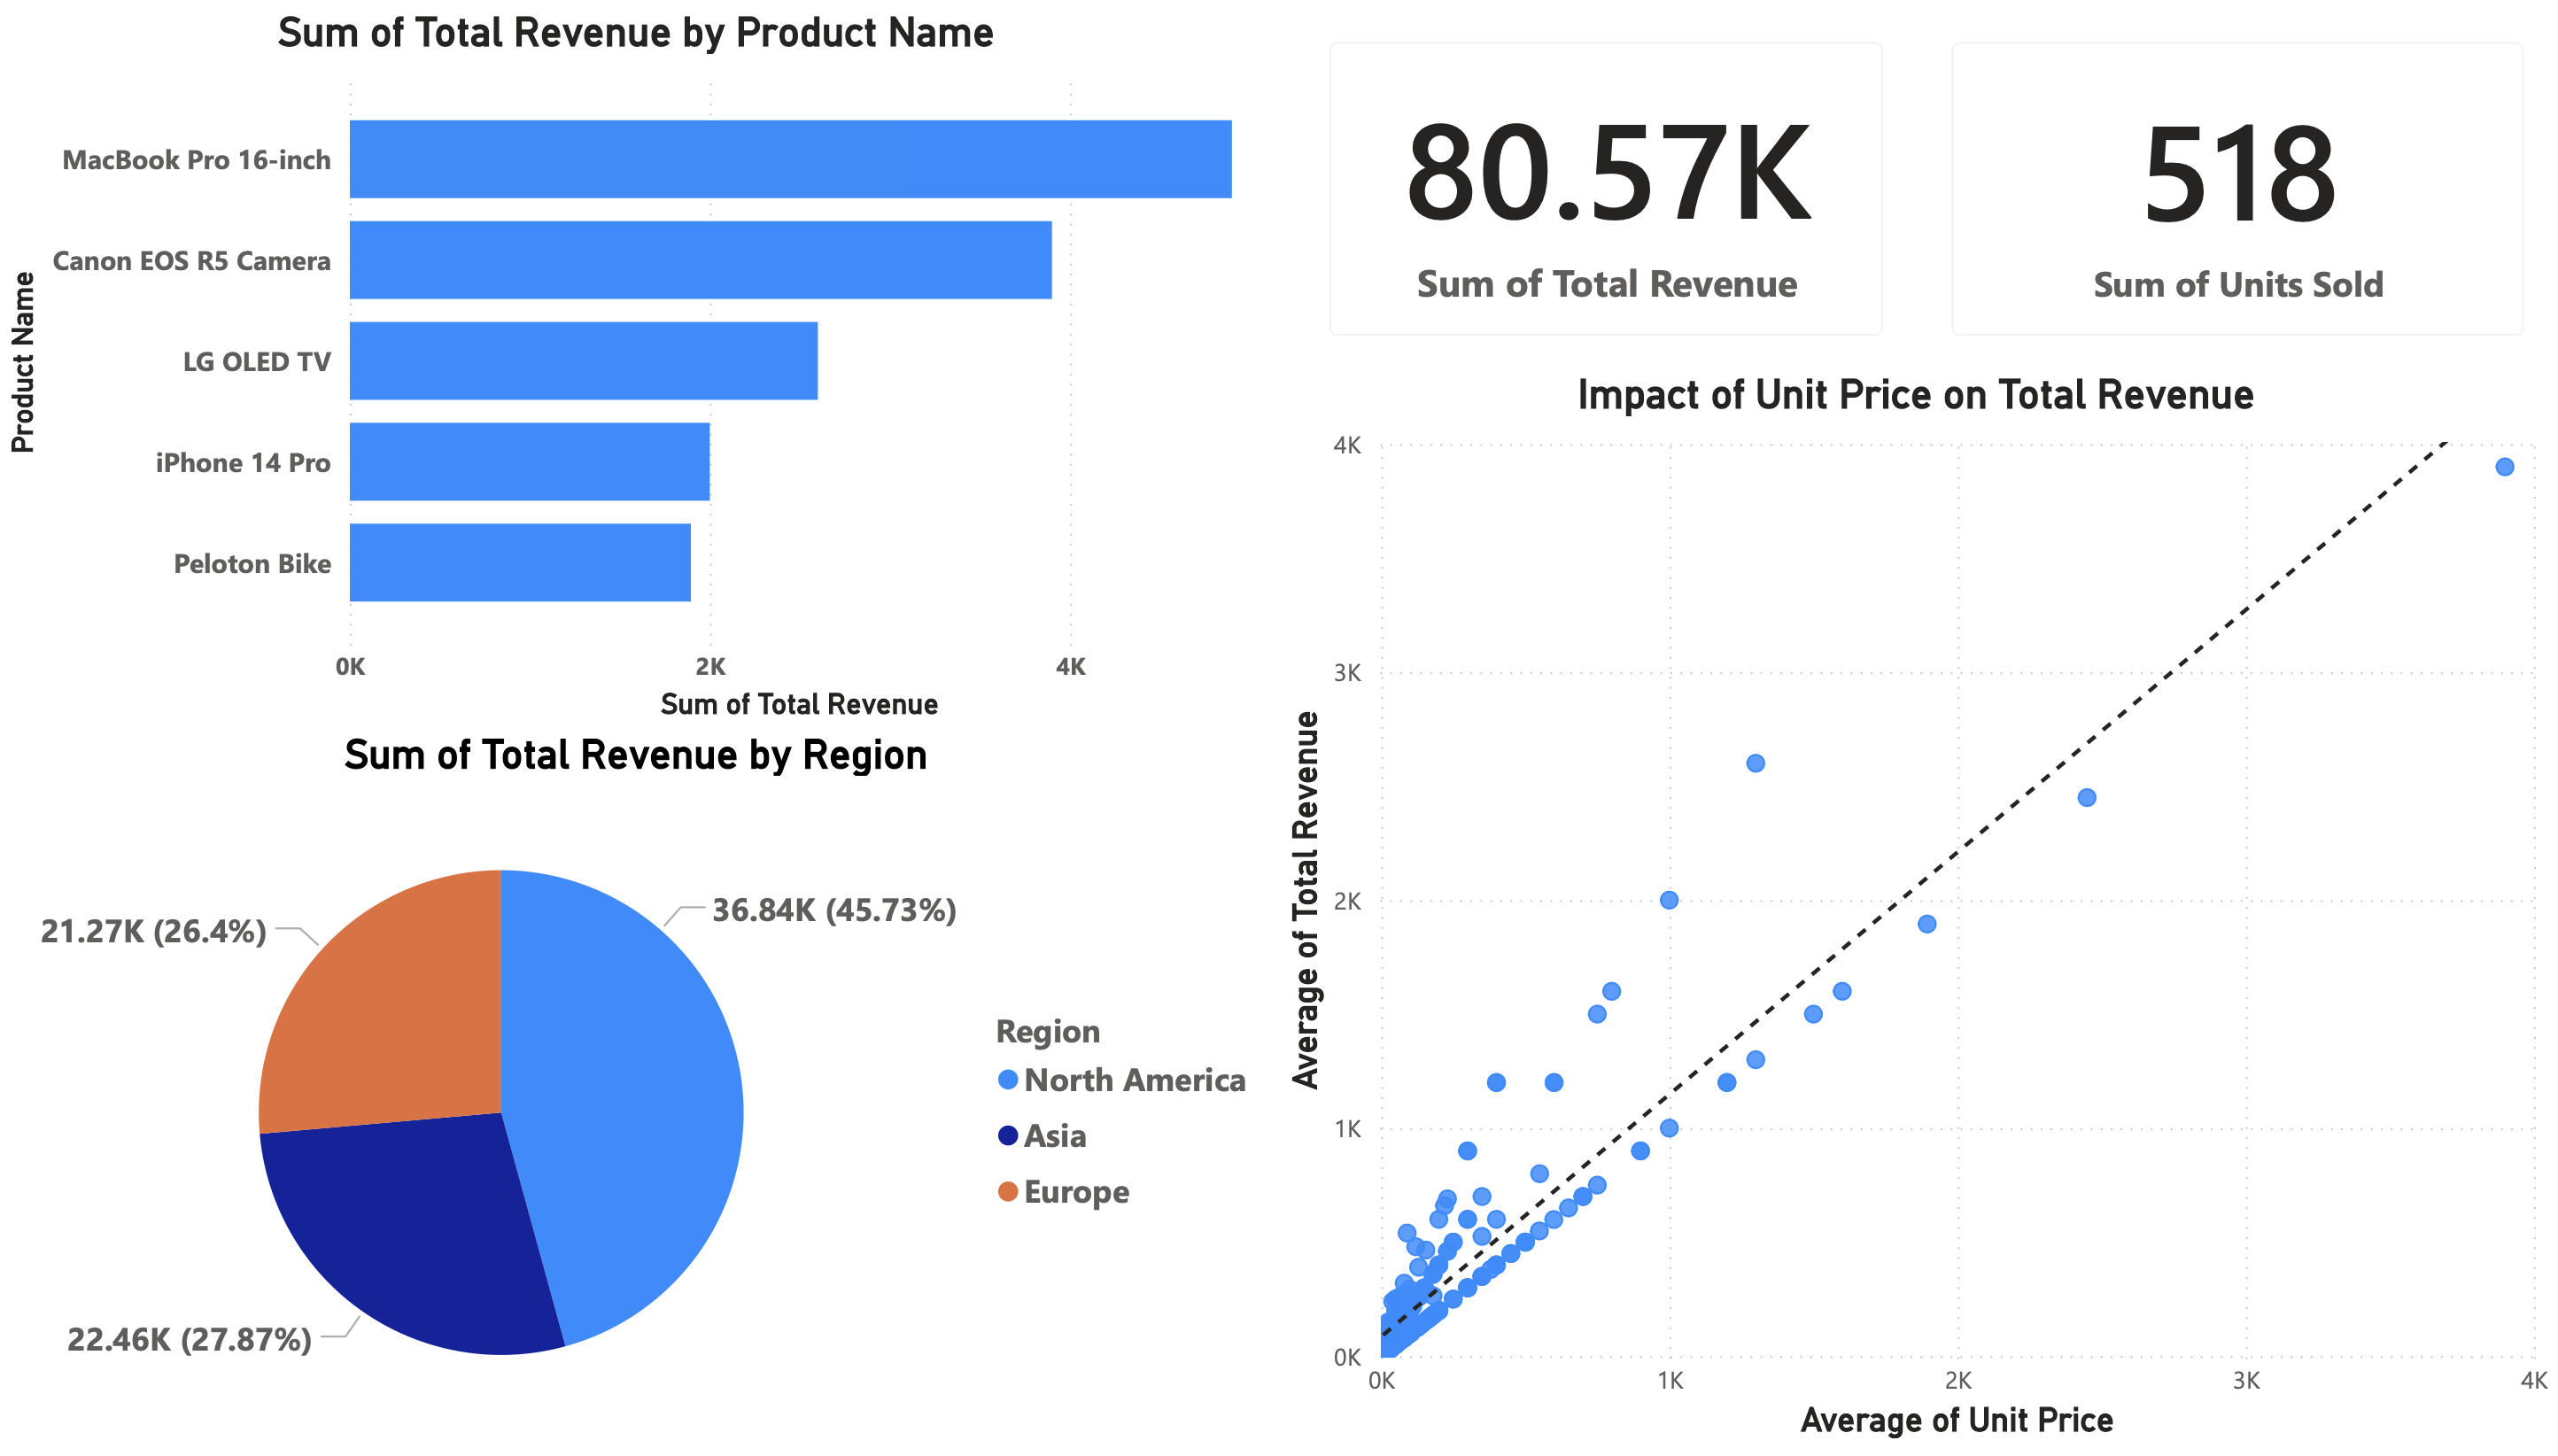

The dashboard page shown, as its layout file describes it:
{"tool":"powerbi","page":{"name":"Page 1","canvas":[1280,720],"ordinal":0},"visuals":[{"type":"clusteredBarChart","fields":{"Category":["Online Sales Data (Cleaned) 3.Product Name"],"Y":["Sum(Online Sales Data (Cleaned) 3.Total Revenue)"]},"box":[0,0,639.5,360.8],"z":0},{"type":"pieChart","fields":{"Category":["Online Sales Data (Cleaned) 3.Region"],"Y":["Sum(Online Sales Data (Cleaned) 3.Total Revenue)"]},"box":[0,360.8,639.5,359.2],"z":1000},{"type":"cardVisual","title":"Sum of Total Revenue","fields":{"Data":["Sum(Online Sales Data (Cleaned) 3.Total Revenue)"]},"box":[648.8,0,311.2,181.2],"z":2000},{"type":"cardVisual","title":"Total Units Sold","fields":{"Data":["Sum(Online Sales Data (Cleaned) 3.Units Sold)"]},"box":[960,0,320.5,181.2],"z":3000},{"type":"scatterChart","title":"Impact of Unit Price on Total Revenue","fields":{"X":["Avg(Online Sales Data (Cleaned) 3.Unit Price)"],"Y":["Avg(Online Sales Data (Cleaned) 3.Total Revenue)"],"Category":["Online Sales Data (Cleaned) 3.Product Name"]},"box":[639.5,181.2,641,538.8],"z":4000}]}

Visuals, with their boxes in screenshot pixels (x1, y1, x2, y2), scaled from the page's 1280x720 canvas onto the 2558x1456 screenshot:
clusteredBarChart - Online Sales Data (Cleaned) 3.Product Name x Sum(Online Sales Data (Cleaned) 3.Total Revenue): l=0, t=0, r=1278, b=730
pieChart - Online Sales Data (Cleaned) 3.Region x Sum(Online Sales Data (Cleaned) 3.Total Revenue): l=0, t=730, r=1278, b=1455
"Sum of Total Revenue" cardVisual: l=1297, t=0, r=1918, b=367
"Total Units Sold" cardVisual: l=1918, t=0, r=2557, b=367
"Impact of Unit Price on Total Revenue" scatterChart: l=1278, t=367, r=2557, b=1455
